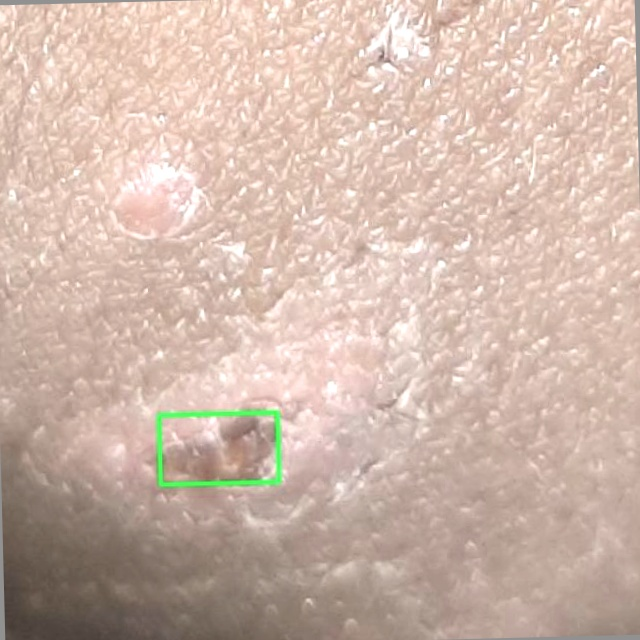Contact Dermatitis: (159, 412, 279, 484)
